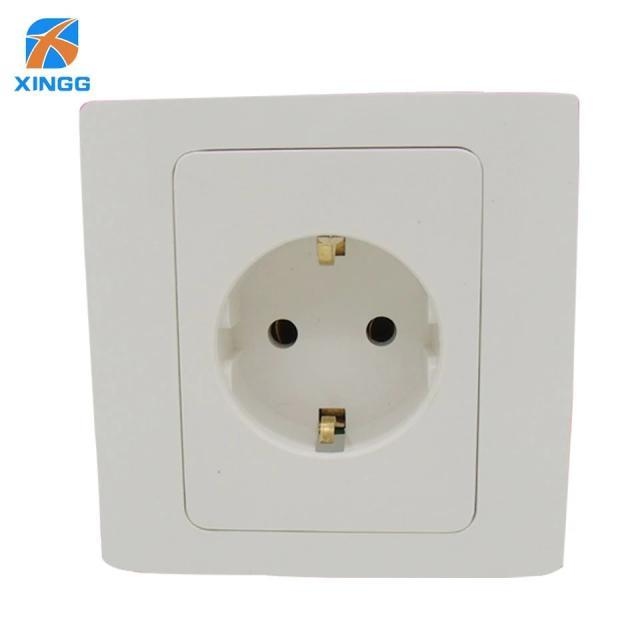typeb: (61, 87, 607, 608)
